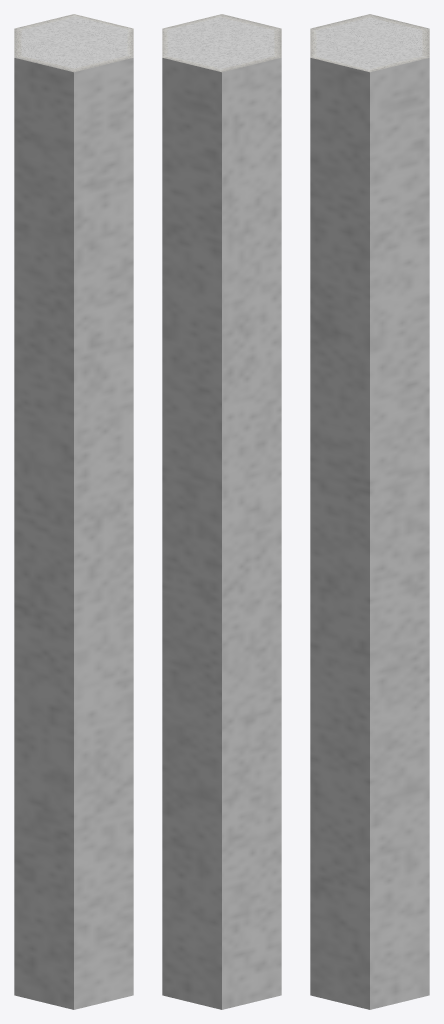
The model's file is HexaTile_MurLimite.FBX.
The picture shows the model from 3 angles, left to right: view 1: azimuth 90°, elevation 25°; view 2: azimuth 210°, elevation 25°; view 3: azimuth 270°, elevation 25°; orthographic projection.
Parts seen in each view (by area): view 1: HexaTile_LimitEZone; view 2: HexaTile_LimitEZone; view 3: HexaTile_LimitEZone.
Boxes of the visible parts, x1,y1,x2,y2 form: HexaTile_LimitEZone: (14, 14, 133, 1009); HexaTile_LimitEZone: (162, 14, 281, 1009); HexaTile_LimitEZone: (310, 14, 429, 1009).
Bounding box in the file's own units: 1 × 7.5 × 0.866.
